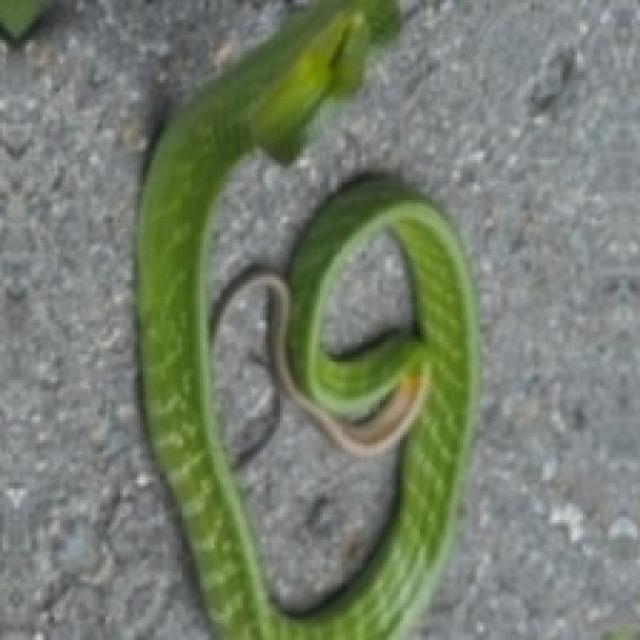red-tailed green ratsnake: (137, 0, 474, 637)
